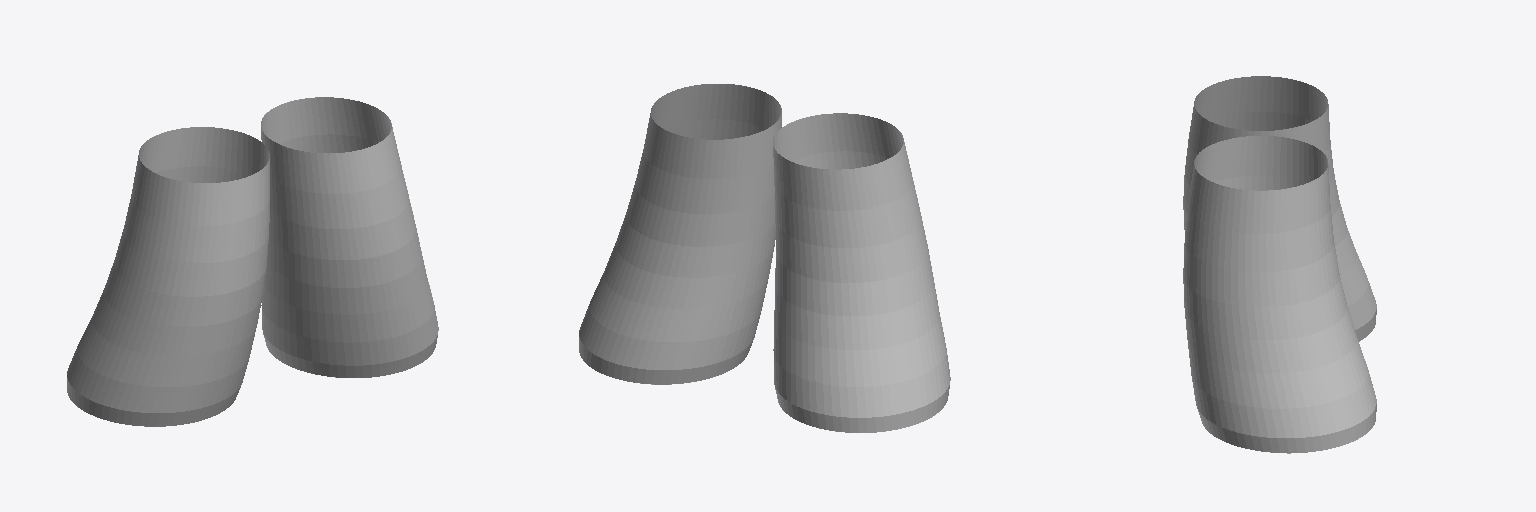
Rendered from F Socks.obj.
The picture shows the model from 3 angles: view 1: azimuth 30°, elevation 25°; view 2: azimuth 150°, elevation 25°; view 3: azimuth 270°, elevation 25°; orthographic projection.
Parts seen in each view (by area): view 1: Cylinder.000; view 2: Cylinder.000; view 3: Cylinder.000.
Part boxes in pixels (bbox=[...]): Cylinder.000: bbox=[67, 97, 438, 426]; Cylinder.000: bbox=[579, 84, 950, 432]; Cylinder.000: bbox=[1183, 76, 1376, 453].
Size of the model in its own units: 1.19 by 0.8037 by 0.5752.